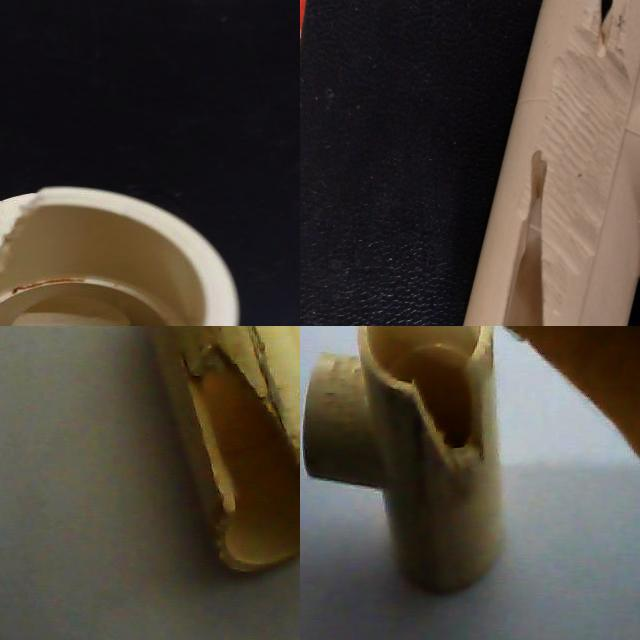Defective: (182, 343, 300, 518), (182, 345, 300, 514), (412, 368, 488, 471), (0, 195, 54, 326), (385, 23, 425, 180)
T Joint: (300, 9, 573, 326), (301, 326, 506, 598), (145, 326, 300, 578)
